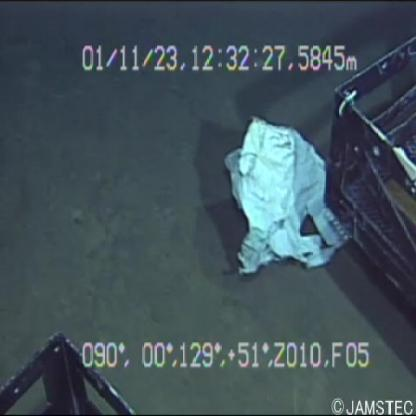Rov: (314, 11, 416, 336), (1, 326, 137, 415)
Rác: (210, 102, 357, 283)
